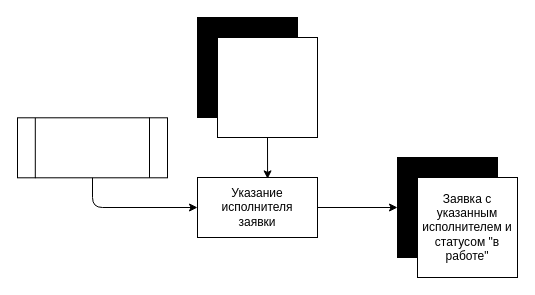
This 535x295 diagram has some shape labels left out. Here are the shapes that lost their labels. From the top down, the centre of each, then its label:
At (x=267, y=87): "Заявка на исправление неисправности".
At (x=92, y=147): "База данных заявок".
